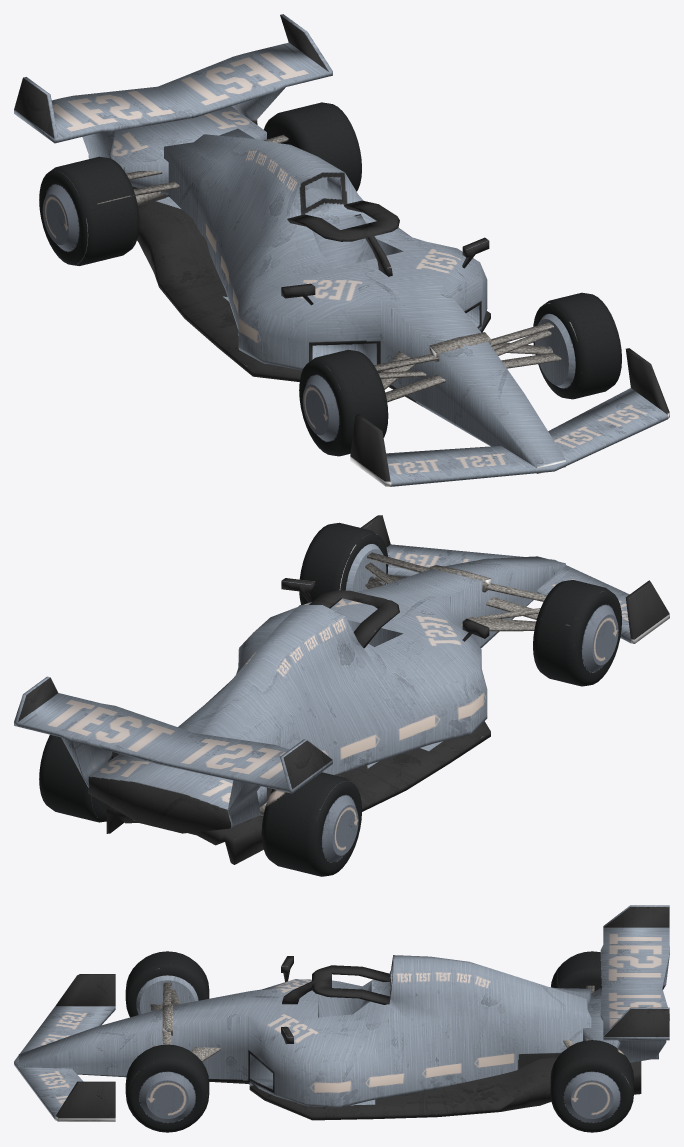
The model's file is F1_bolid.glb.
3 views of the same model, one above another, from view 1: azimuth 30°, elevation 25°; view 2: azimuth 150°, elevation 25°; view 3: azimuth 270°, elevation 25° (orthographic). The views are drawn at different scales.
Visible parts, largest first — view 1: Cylinder.013, Cylinder.007, Cylinder.015, Cylinder.010, Cylinder.008; view 2: Cylinder.013, Cylinder.007, Cylinder.010, Cylinder.015, Cylinder.008; view 3: Cylinder.013, Cylinder.008, Cylinder.015, Cylinder.010, Cylinder.007.
Boxes of the visible parts, x1,y1,x2,y2 form: Cylinder.013: [14, 14, 669, 486]; Cylinder.007: [39, 156, 139, 265]; Cylinder.015: [533, 292, 621, 399]; Cylinder.010: [299, 349, 388, 456]; Cylinder.008: [263, 102, 361, 191]; Cylinder.013: [14, 515, 669, 864]; Cylinder.007: [261, 772, 361, 876]; Cylinder.010: [533, 580, 621, 686]; Cylinder.015: [299, 522, 388, 604]; Cylinder.008: [39, 734, 118, 822]; Cylinder.013: [14, 905, 669, 1121]; Cylinder.008: [550, 1040, 633, 1132]; Cylinder.015: [125, 1044, 209, 1132]; Cylinder.010: [125, 951, 209, 1017]; Cylinder.007: [551, 951, 601, 990].
Bounding box in the file's own units: 2.31 × 1.14 × 5.55.
1 material, 1 textured.
